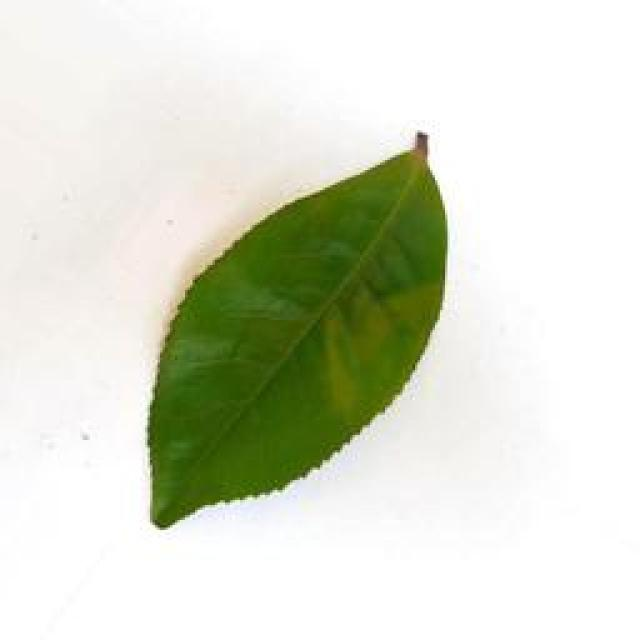Healthy: (126, 124, 487, 560)
